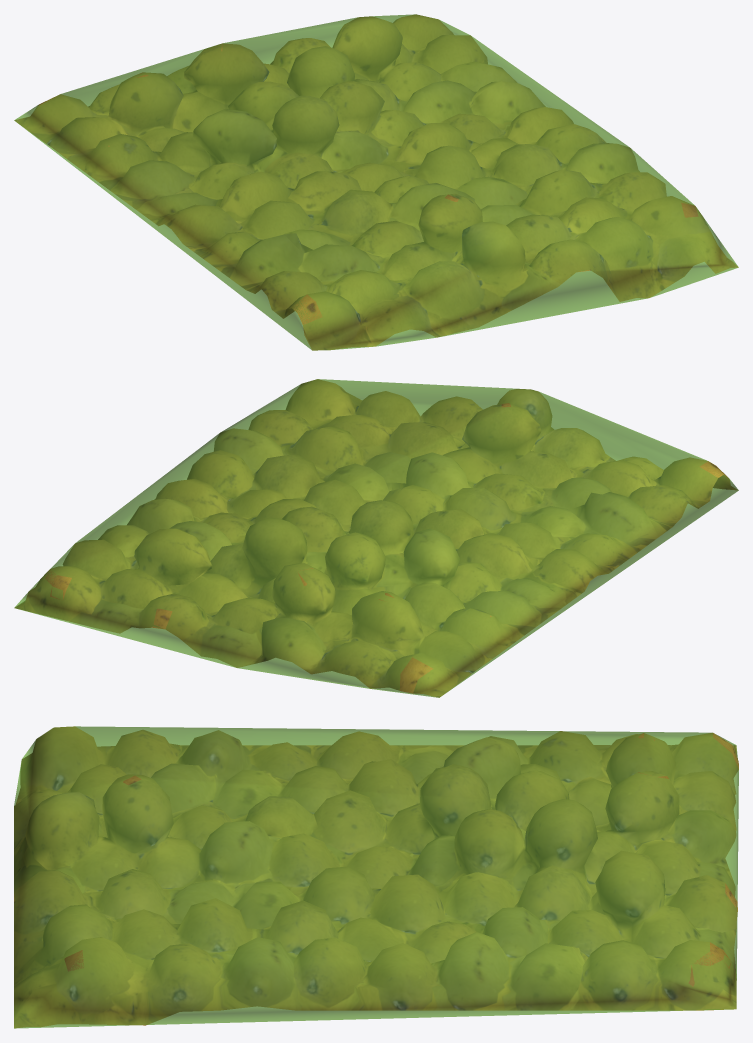
Rendered from pg_Lemon_Pile_01.fbx.
3 views of the same model, one above another, from view 1: azimuth 30°, elevation 25°; view 2: azimuth 150°, elevation 25°; view 3: azimuth 270°, elevation 25° (orthographic). The views are drawn at different scales.
Parts seen in each view (by area): view 1: pg_Lemon_Pile_01_col, pg_Lemon_Pile_01_LOD0; view 2: pg_Lemon_Pile_01_col, pg_Lemon_Pile_01_LOD0; view 3: pg_Lemon_Pile_01_col, pg_Lemon_Pile_01_LOD0.
Part boxes in pixels (bbox=[...]): pg_Lemon_Pile_01_col: bbox=[14, 14, 738, 350]; pg_Lemon_Pile_01_LOD0: bbox=[14, 14, 738, 350]; pg_Lemon_Pile_01_col: bbox=[14, 379, 738, 697]; pg_Lemon_Pile_01_LOD0: bbox=[15, 379, 737, 697]; pg_Lemon_Pile_01_col: bbox=[14, 726, 738, 1028]; pg_Lemon_Pile_01_LOD0: bbox=[14, 726, 738, 1028].
Size of what is drawn, in the model's own units: 45.9 by 10.76 by 56.56.
